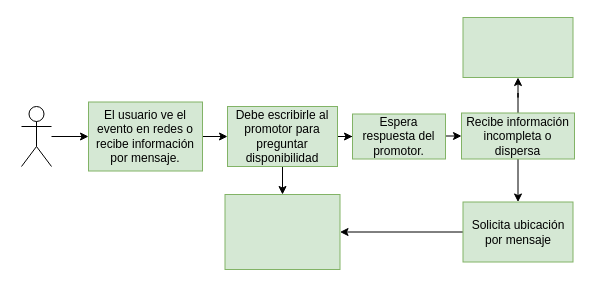
This 592x287 diagram has some shape labels left out. The centre of each missing label's shape, as x and y in pixels:
"Depende totalmente del promotor para cualquier información" goes at point (282, 232).
"Reserva enviando mensaje o confirmación manual" goes at point (517, 47).
"usuario" goes at point (36, 136).
